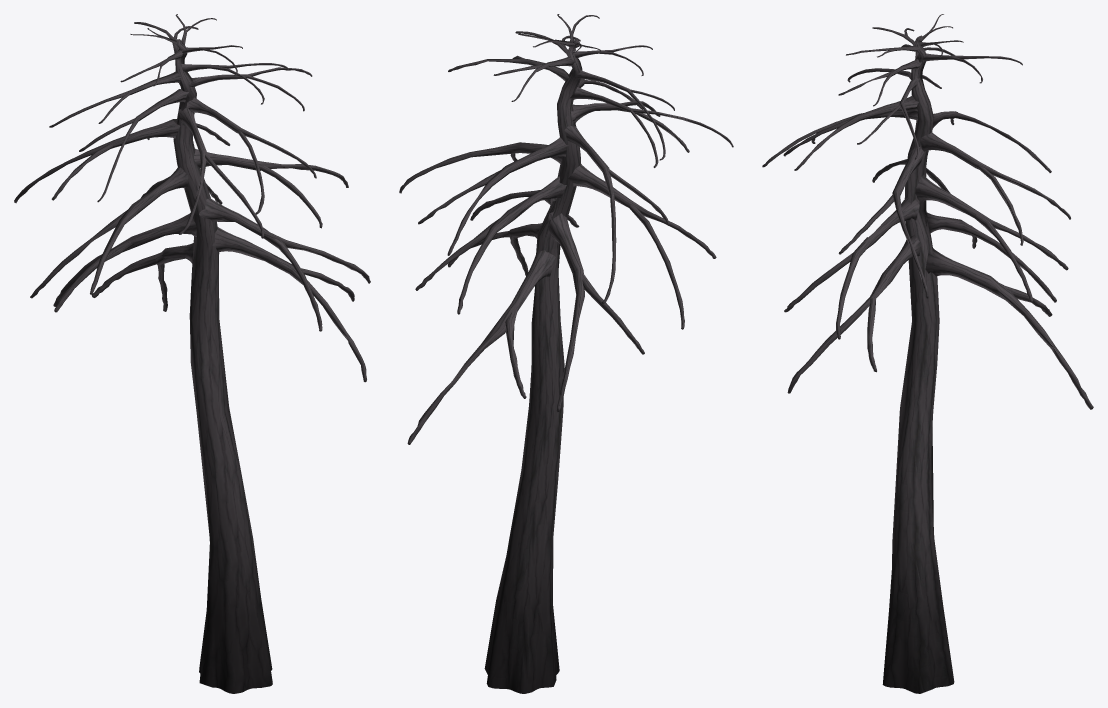
The model's file is DeadTree_3.glb.
3 renders of one model, left to right at view 1: azimuth 30°, elevation 25°; view 2: azimuth 150°, elevation 25°; view 3: azimuth 270°, elevation 25°, orthographic. The views are drawn at different scales.
Visible parts, largest first — view 1: DeadTree_3; view 2: DeadTree_3; view 3: DeadTree_3.
Boxes of the visible parts, x1,y1,x2,y2 form: DeadTree_3: (14, 14, 370, 693); DeadTree_3: (399, 14, 733, 693); DeadTree_3: (762, 14, 1093, 693).
Size of the model in its own units: 6.39 by 13.28 by 6.43.
1 material, 1 textured.
